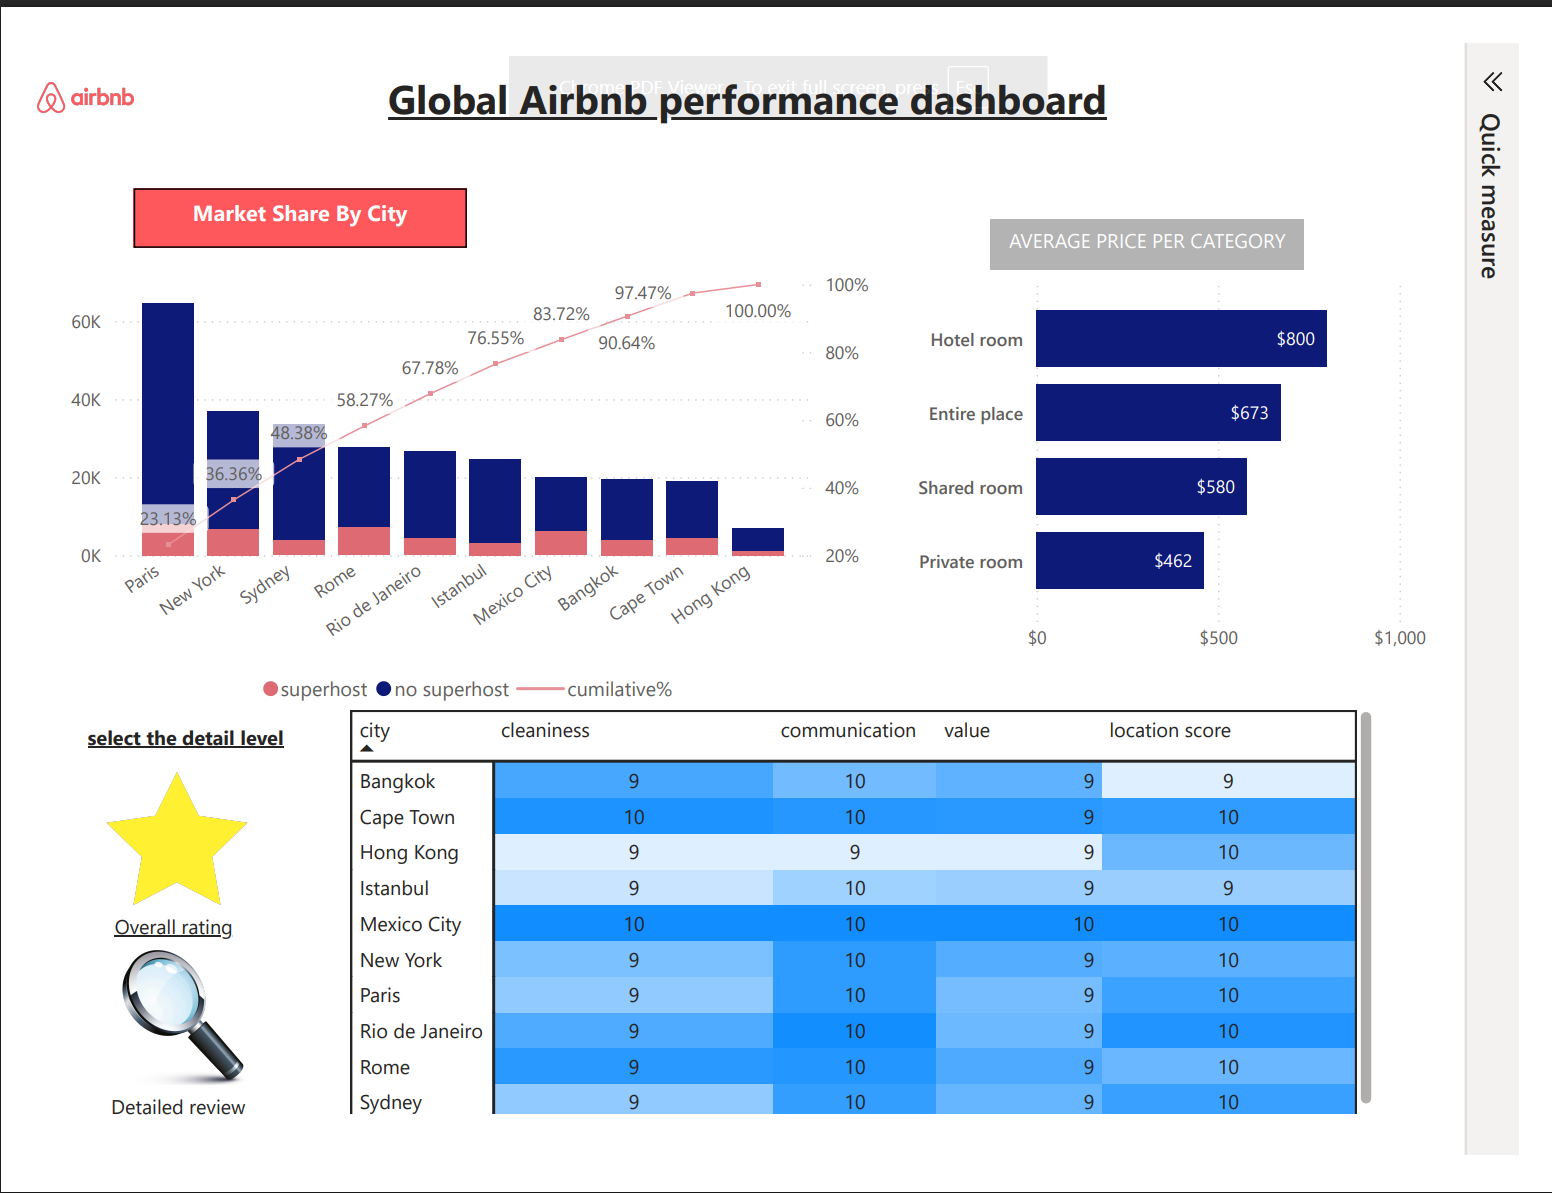

What the dashboard file says about the page in this screenshot:
{"tool":"powerbi","page":{"name":"Ratings","canvas":[960,720],"ordinal":1},"visuals":[{"type":"textbox","box":[231.3,0,497.3,46.3],"z":0},{"type":"image","box":[0,0,65.2,46.3],"z":1000},{"type":"textbox","box":[65.2,83.7,224,40.6],"z":8000},{"type":"lineStackedColumnComboChart","fields":{"Category":["Listings.city"],"Y":["Listings.true count","Listings.false count"],"Y2":["Listings.cumilative%"]},"box":[18.5,132.9,546.5,306.5],"z":8001},{"type":"barChart","fields":{"Category":["Listings.room_type"],"Y":["Listings.avg price"]},"box":[585.8,132.9,353.2,270.8],"z":8002},{"type":"textbox","box":[641.2,104.6,210.5,34.5],"z":8003},{"type":"image","box":[39.4,471.4,109.5,99.7],"z":8006,"group":"g1"},{"type":"image","box":[50,593.3,93.7,100.5],"z":8007,"group":"g2"},{"type":"pivotTable","fields":{"Rows":["Listings.city"],"Values":["Listings.cleaniness","Listings.communication score","Listings.value score","Listings.location score"]},"box":[205.5,429.5,697.8,281.8],"z":8008},{"type":"textbox","box":[41.8,686.8,105.8,33.2],"z":8009,"group":"g2"},{"type":"textbox","box":[24.6,439.4,150.2,33.2],"z":8010},{"type":"textbox","box":[39.4,566.2,105.8,33.2],"z":8011,"group":"g1"},{"type":"group","id":"g1","title":"Group 1","box":[39.4,471.4,109.5,128],"z":8012},{"type":"group","id":"g2","title":"Group 2","box":[41.8,593.3,105.8,126.8],"z":8013}]}

Visuals, with their boxes on the page's 960x720 design canvas (x1, y1, x2, y2). These are canvas units, not pixel positions in the 1552x1193 screenshot, which may show the page scaled, cropped or inside an application window:
textbox: bbox(231, 0, 729, 46)
image: bbox(0, 0, 65, 46)
textbox: bbox(65, 84, 289, 124)
lineStackedColumnComboChart - Listings.city x Listings.true count: bbox(18, 133, 565, 439)
barChart - Listings.room_type x Listings.avg price: bbox(586, 133, 939, 404)
textbox: bbox(641, 105, 852, 139)
image: bbox(39, 471, 149, 571)
image: bbox(50, 593, 144, 694)
pivotTable - Listings.city x Listings.cleaniness: bbox(206, 430, 903, 711)
textbox: bbox(42, 687, 148, 720)
textbox: bbox(25, 439, 175, 473)
textbox: bbox(39, 566, 145, 599)
"Group 1" group: bbox(39, 471, 149, 599)
"Group 2" group: bbox(42, 593, 148, 720)
